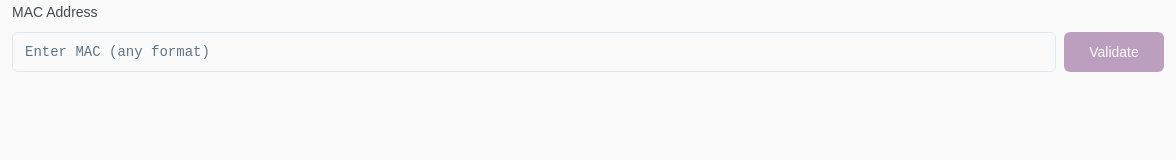
MacValidator › validation flow › shows error for non-approved OUI
In the field with placeholder "Enter MAC (any format)": (534, 52) [12, 32, 1056, 72], type "AABBCCDDEEFF"
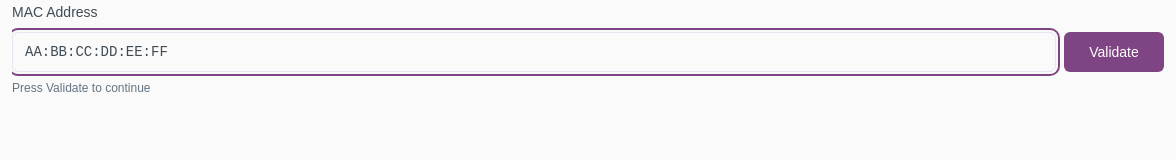
Click the button "Validate": (1114, 52) [1064, 32, 1164, 72]
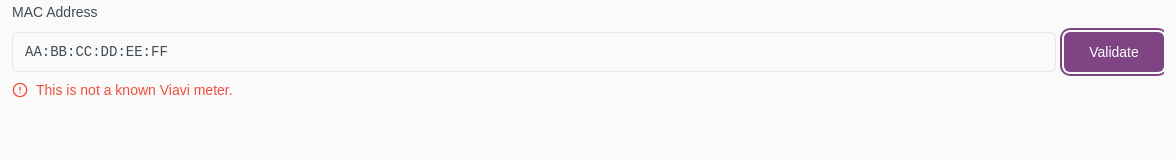
Expected: the text "This is not a known Viavi meter." is shown, [36, 80, 233, 100]
